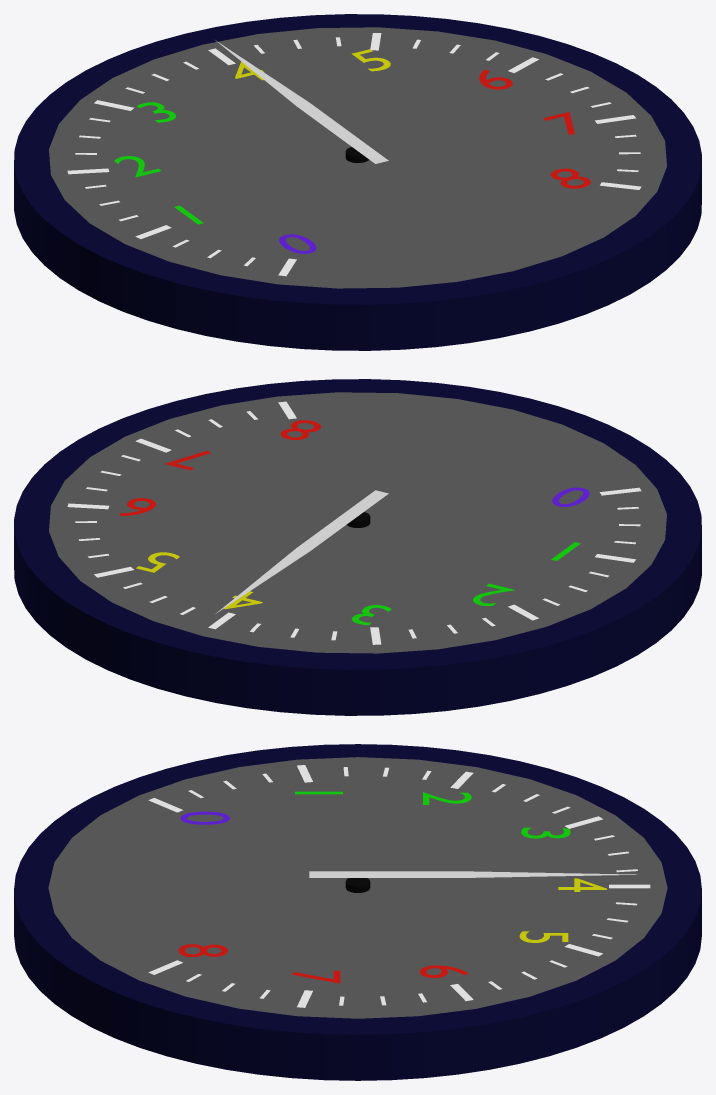
File: tach8500.glb
The picture shows the model from 3 angles, top to bottom: view 1: azimuth 30°, elevation 25°; view 2: azimuth 150°, elevation 25°; view 3: azimuth 270°, elevation 25°; orthographic projection.
Parts seen in each view (by area): view 1: housing, needle; view 2: housing, needle; view 3: housing, needle.
Boxes of the visible parts, x1,y1,x2,y2 form: housing: [14, 14, 701, 350]; needle: [215, 40, 388, 163]; housing: [14, 379, 701, 715]; needle: [216, 490, 388, 613]; housing: [14, 744, 701, 1080]; needle: [309, 871, 636, 877].
Size of the model in its own units: 0.0508 by 0.00496 by 0.0508.
